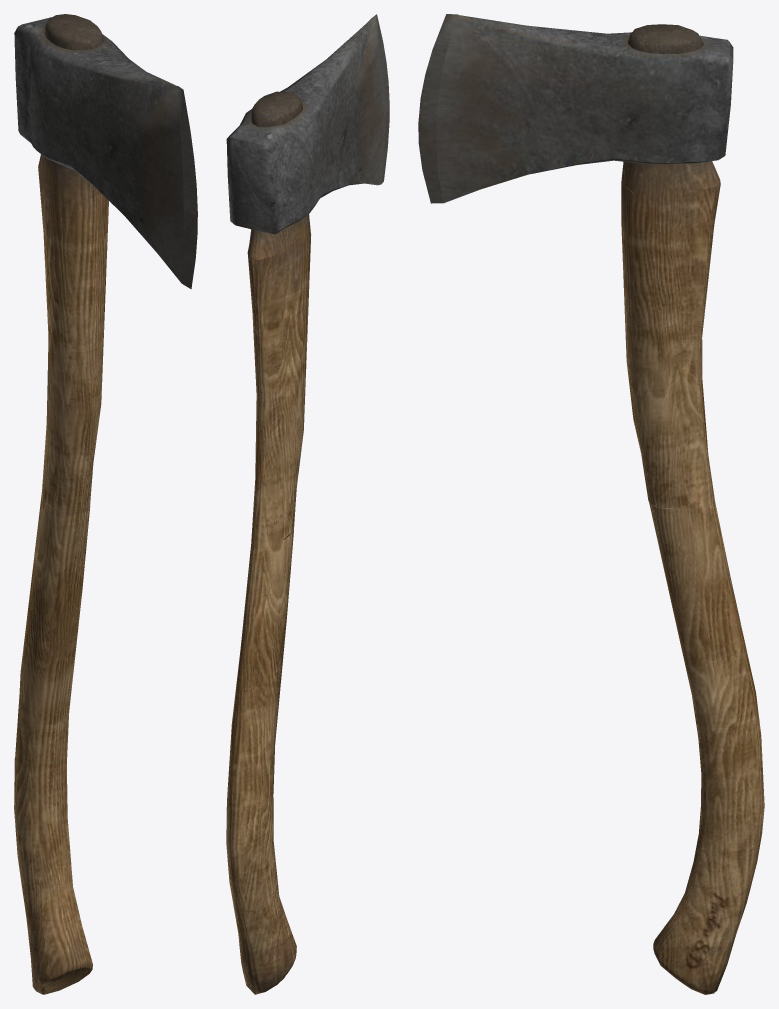
The model's file is axe_broad.glb.
The picture shows the model from 3 angles, left to right: view 1: azimuth 30°, elevation 25°; view 2: azimuth 150°, elevation 25°; view 3: azimuth 270°, elevation 25°; orthographic projection. The views are drawn at different scales.
Visible parts, largest first — view 1: wooden_axe_02; view 2: wooden_axe_02; view 3: wooden_axe_02.
Part boxes in pixels (left/top/right/bottom): wooden_axe_02: left=14, top=14, right=197, bottom=994; wooden_axe_02: left=226, top=14, right=389, bottom=994; wooden_axe_02: left=418, top=14, right=764, bottom=994.
Bounding box in the file's own units: 0.0509 × 0.7044 × 0.2257.
Materials: 1 (1 with a texture image).
